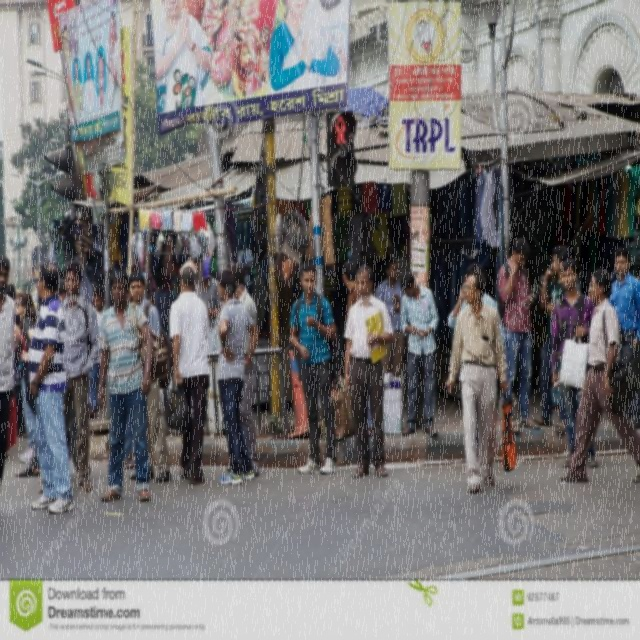pessoa: (29, 0, 470, 172), (556, 268, 640, 486), (444, 270, 509, 497), (96, 268, 154, 502), (26, 260, 76, 514), (6, 282, 66, 482), (448, 263, 506, 466), (343, 264, 393, 478), (288, 260, 337, 474), (126, 270, 174, 483), (550, 259, 598, 469), (60, 259, 101, 492), (217, 267, 260, 485), (168, 265, 210, 487), (496, 238, 541, 433), (226, 264, 262, 478), (533, 246, 571, 432), (398, 269, 439, 437), (13, 290, 38, 463), (0, 254, 17, 490), (606, 248, 640, 364), (374, 258, 406, 378), (86, 286, 112, 420), (150, 270, 180, 346), (192, 274, 222, 332), (342, 260, 362, 338)
